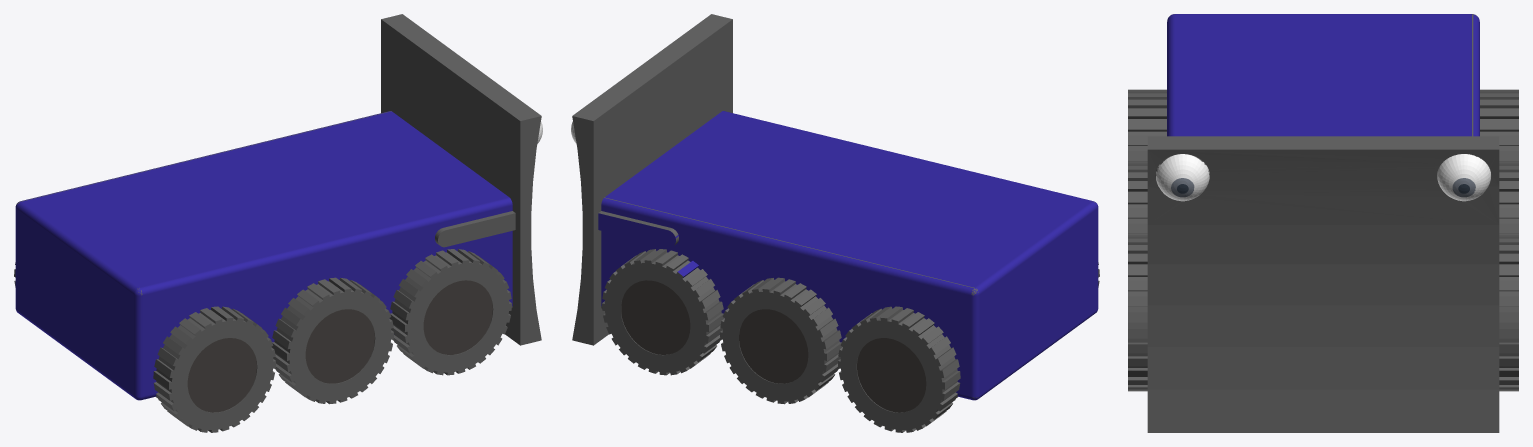
Rendered from Dozer.glb.
3 views of the same model, side by side, from view 1: azimuth 30°, elevation 25°; view 2: azimuth 150°, elevation 25°; view 3: azimuth 270°, elevation 25° (orthographic). The views are drawn at different scales.
Parts seen in each view (by area): view 1: Dozer; view 2: Dozer; view 3: Dozer.
Boxes of the visible parts, x1,y1,x2,y2 form: Dozer: (14, 14, 542, 432); Dozer: (571, 14, 1099, 432); Dozer: (1128, 14, 1518, 432).
Size of the model in its own units: 76.28 by 41 by 50.
